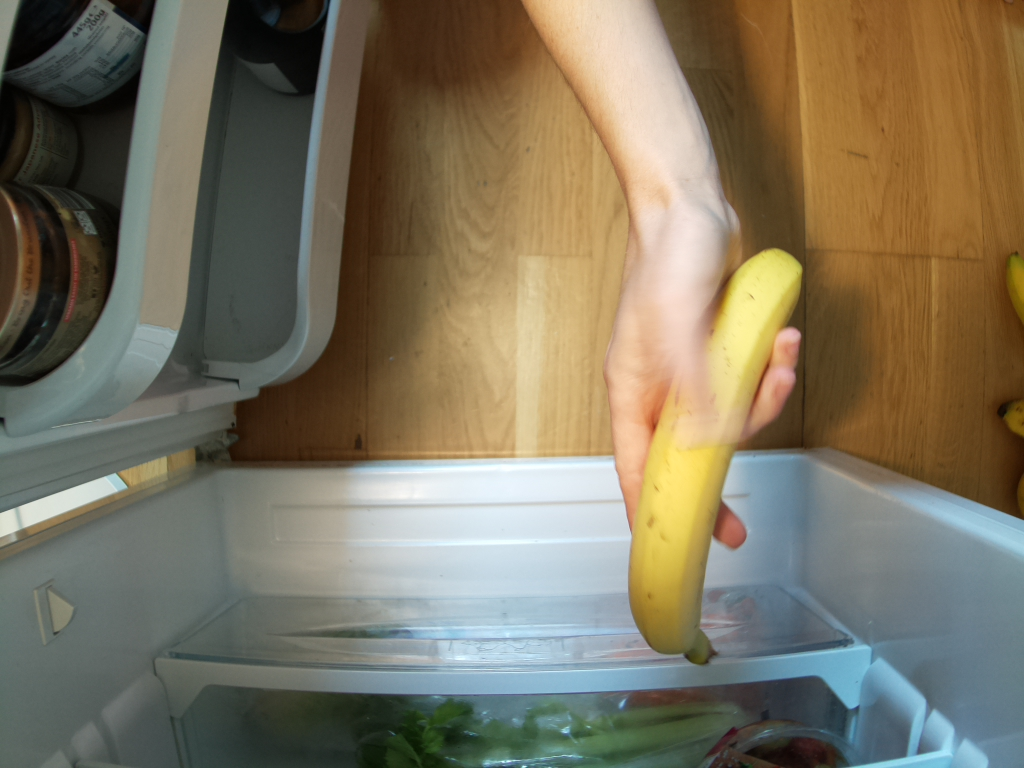banana: (626, 245, 815, 666)
